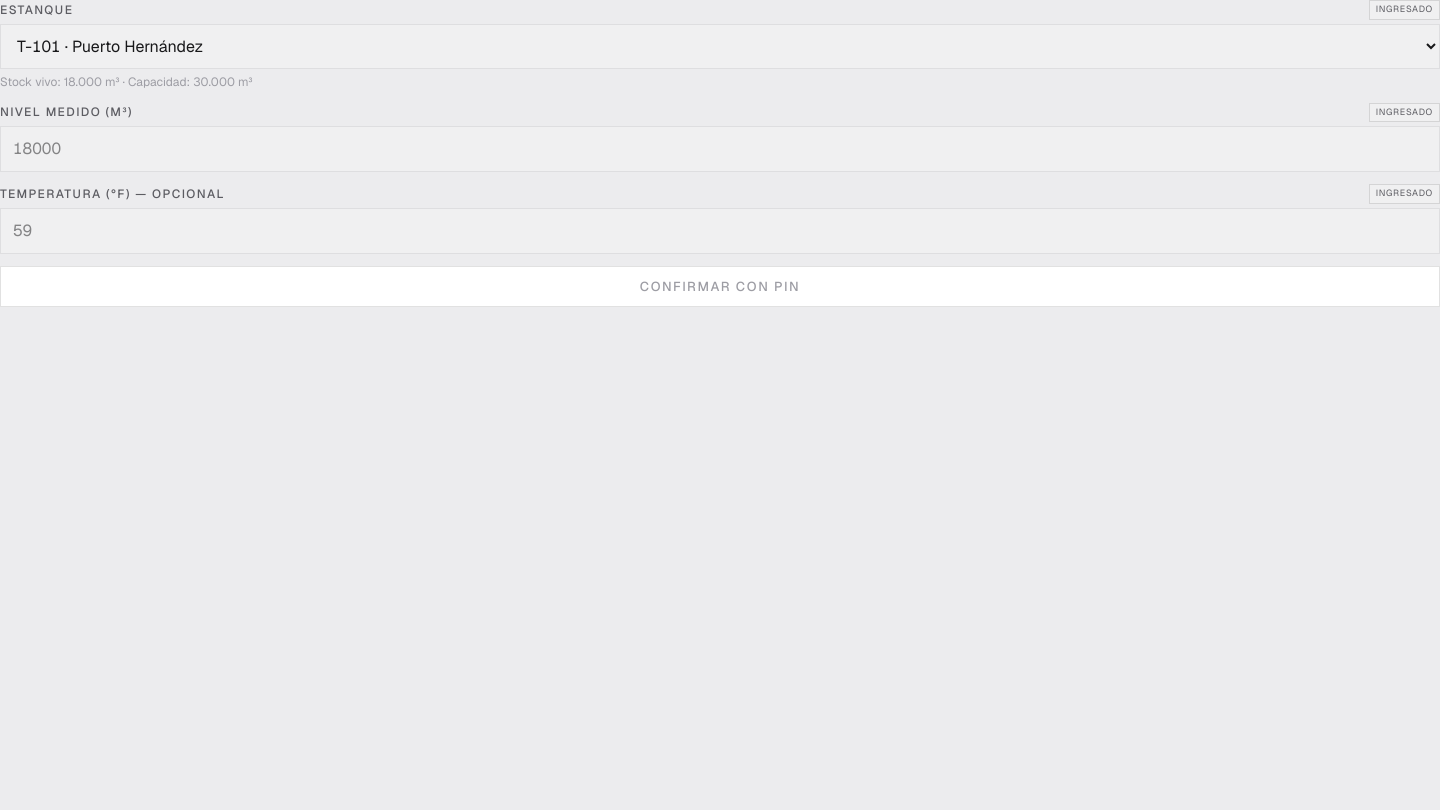
Test: TankReadingForm › commits a valid reading after PIN and propagates it to the world live
Step 1. Type "18100" into the field labelled "Nivel medido (m³)" → (720, 149), box [0,126,1439,172]
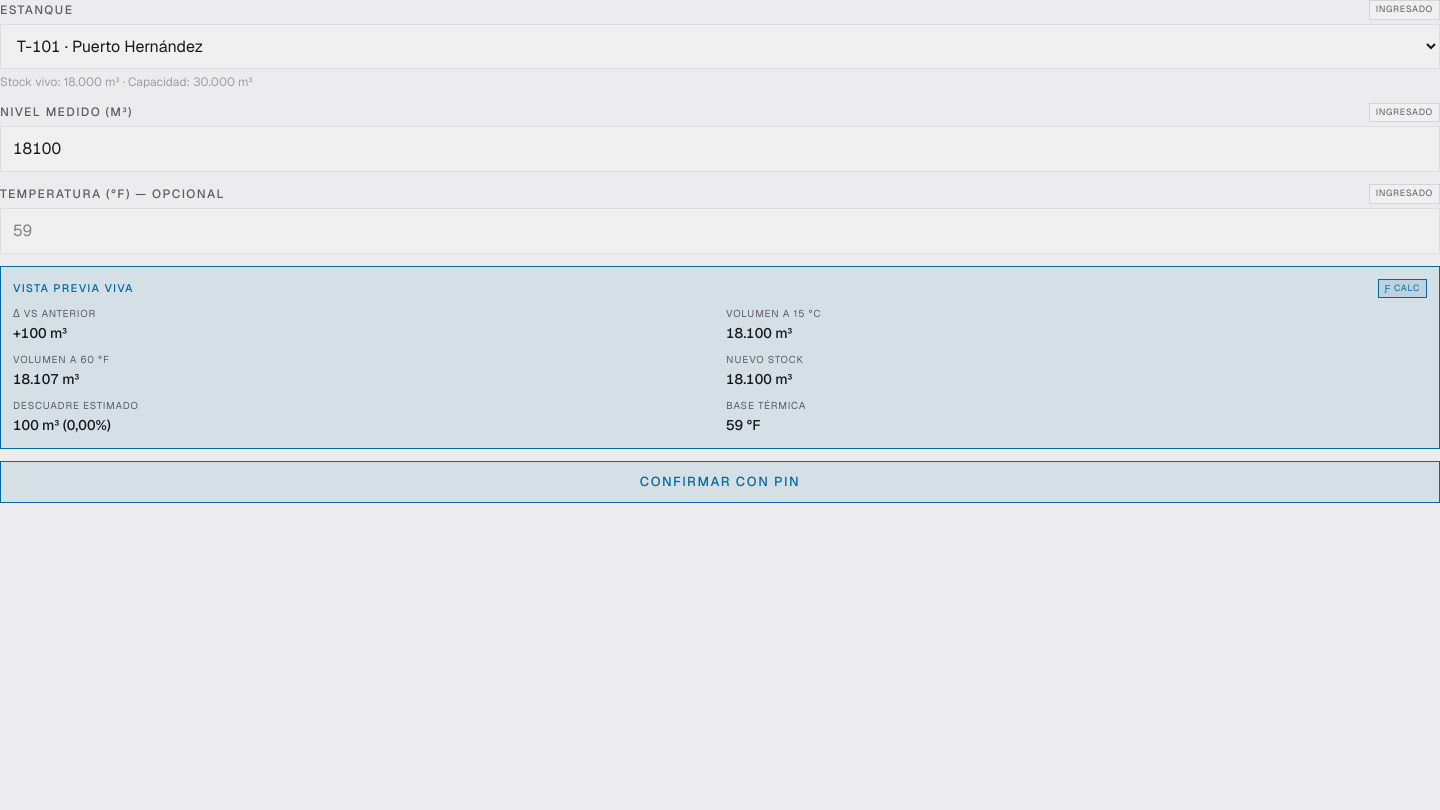
Step 2. Click the button "Confirmar con PIN" → (720, 482), box [0,461,1439,502]
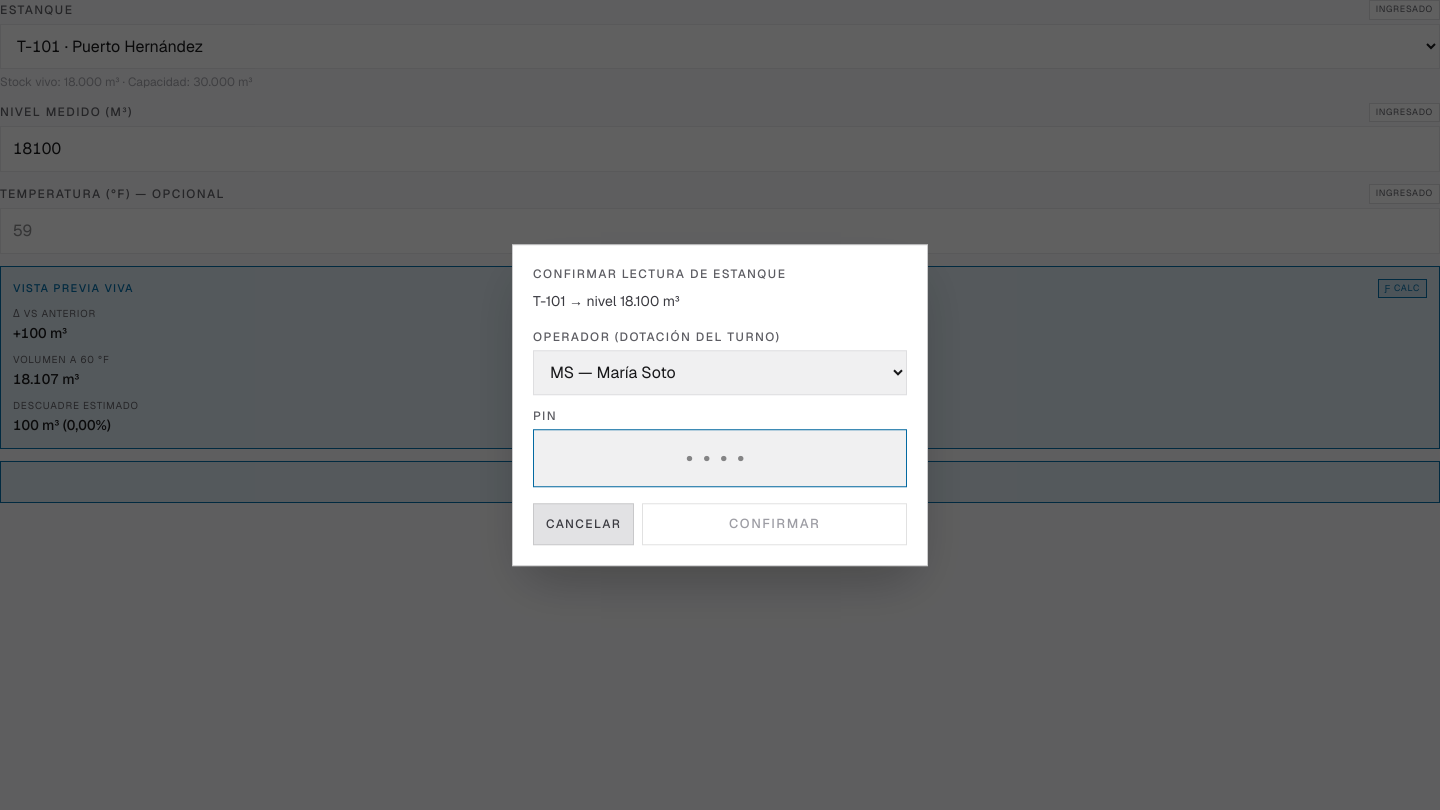
Step 3. Type "0580" into the password field labelled "PIN" → (720, 458), box [533,429,907,487]
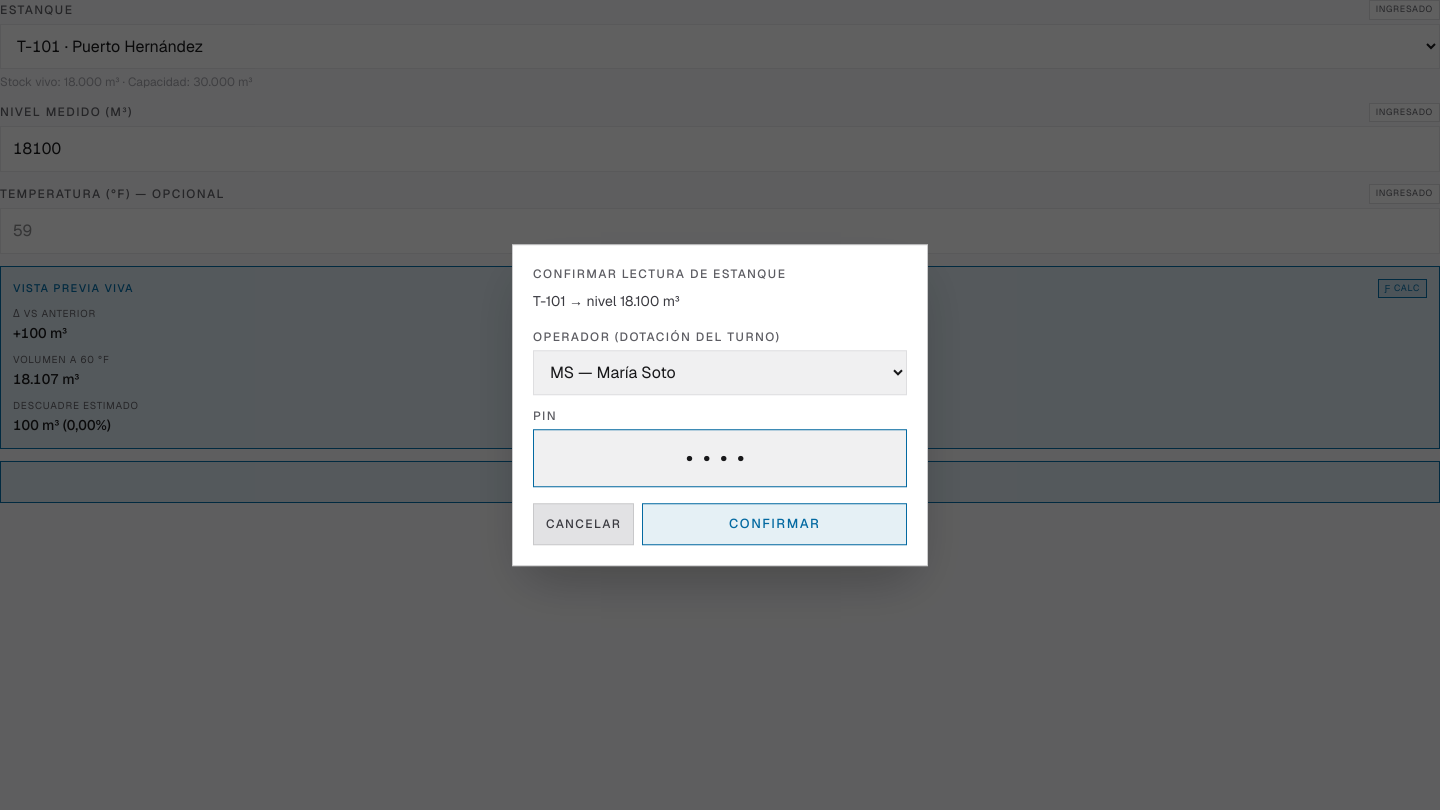
Step 4. Click the button "Confirmar" → (775, 524), box [642,503,907,545]
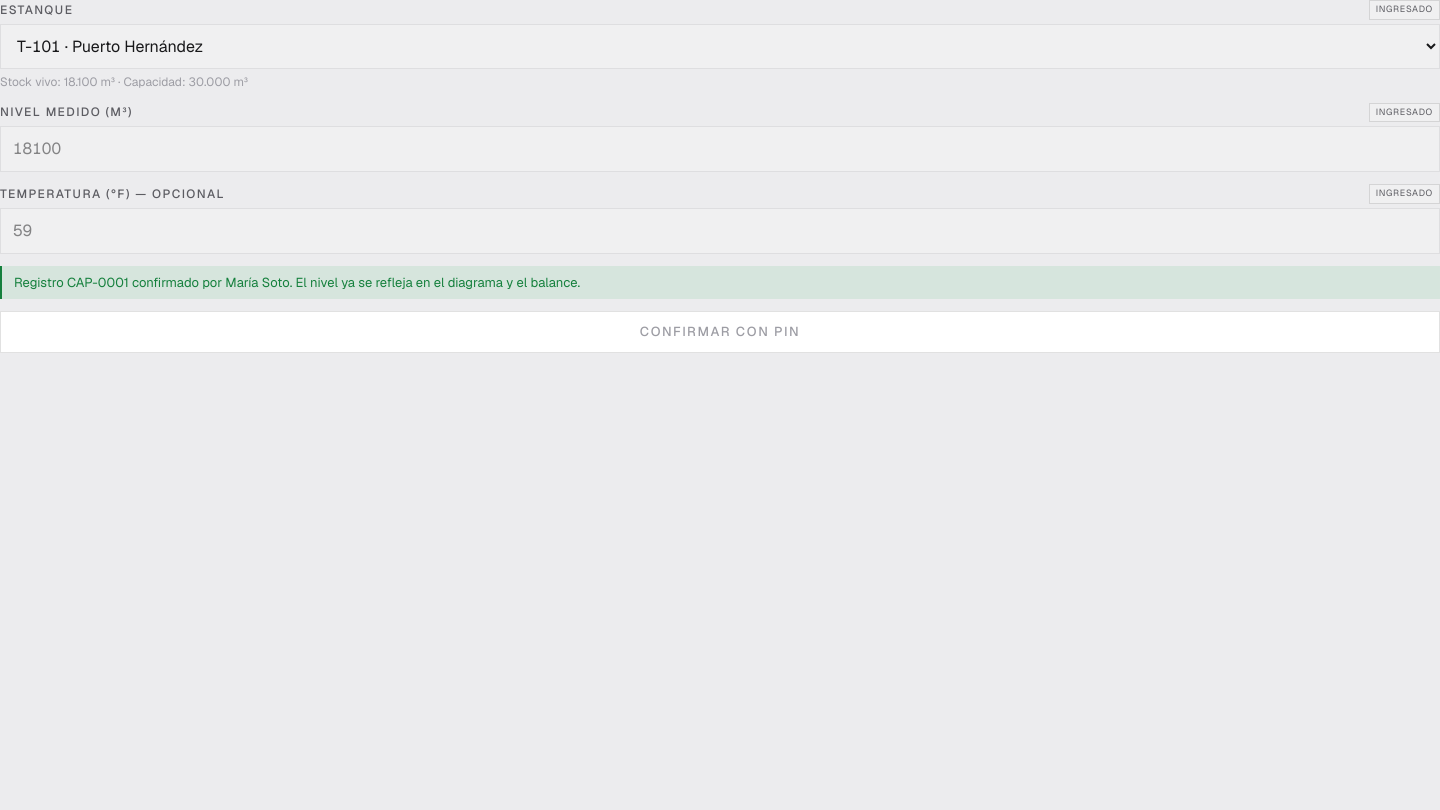
Expected: the text "CAP-0001 confirmado por María Soto" is shown, [14,274,580,290]
